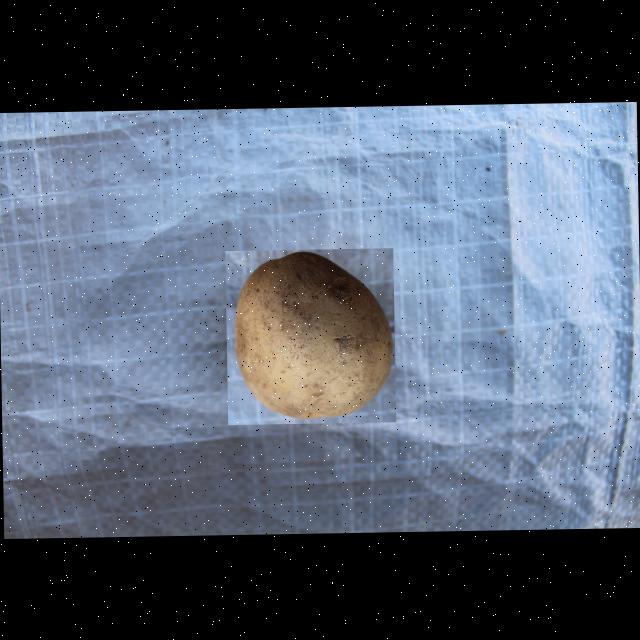Diseased-fungal potato: (225, 248, 396, 424)
